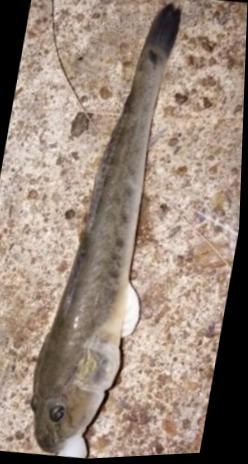fish: (35, 6, 181, 459), (75, 407, 79, 420)
